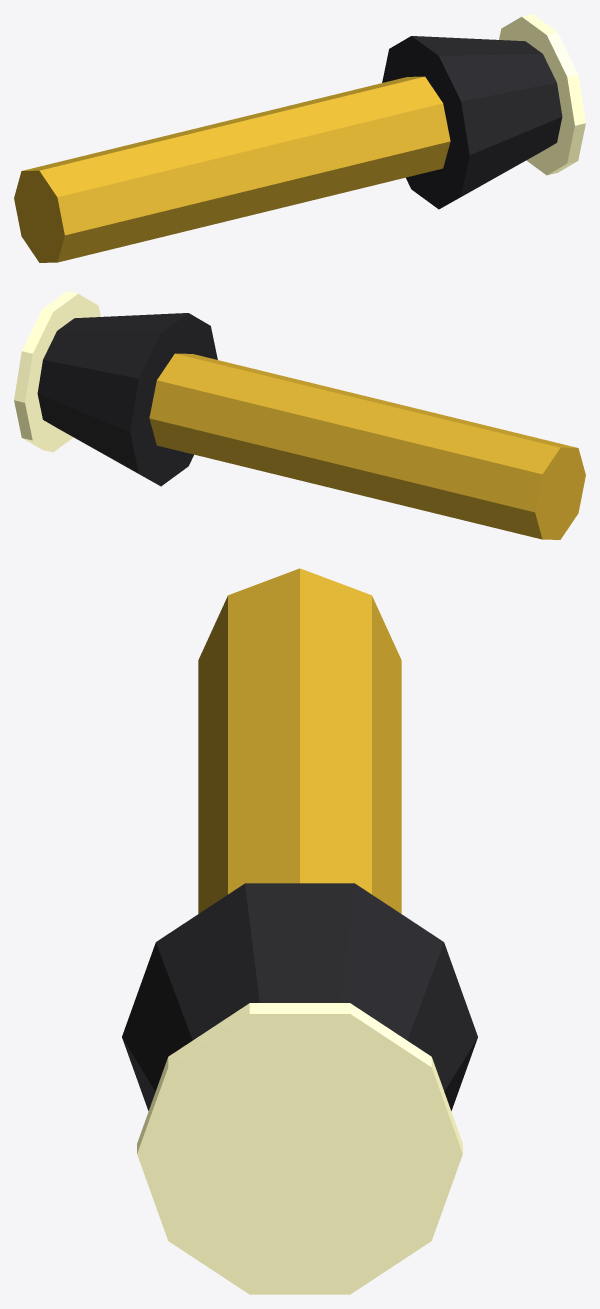
Rendered from garage_flashlight.glb.
3 renders of one model, top to bottom at view 1: azimuth 30°, elevation 25°; view 2: azimuth 150°, elevation 25°; view 3: azimuth 270°, elevation 25°, orthographic. The views are drawn at different scales.
Parts seen in each view (by area): view 1: body_flash_yellow, head_flash_black, lens_flash_lens; view 2: body_flash_yellow, head_flash_black, lens_flash_lens; view 3: lens_flash_lens, body_flash_yellow, head_flash_black.
Part boxes in pixels (left/top/right/bottom): body_flash_yellow: left=14, top=76, right=450, bottom=262; head_flash_black: left=382, top=36, right=562, bottom=209; lens_flash_lens: left=499, top=14, right=585, bottom=175; body_flash_yellow: left=149, top=353, right=585, bottom=539; head_flash_black: left=37, top=313, right=217, bottom=486; lens_flash_lens: left=14, top=291, right=100, bottom=452; lens_flash_lens: left=137, top=1003, right=462, bottom=1294; body_flash_yellow: left=198, top=568, right=401, bottom=913; head_flash_black: left=122, top=883, right=477, bottom=1110.
Size of the model in its own units: 0.2295 by 0.0666 by 0.07.
